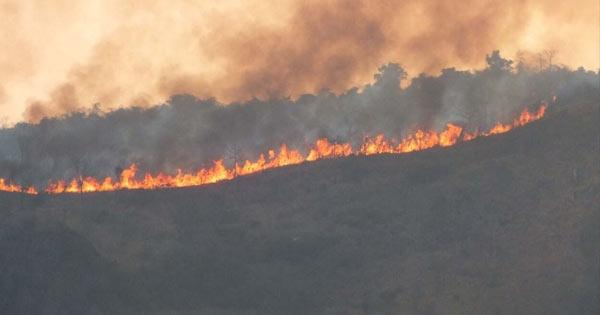fire: (284, 101, 559, 174), (3, 138, 274, 205)
